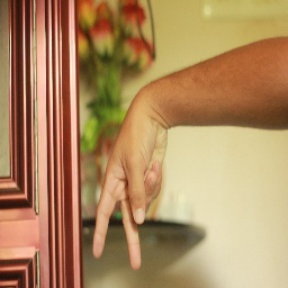Y: (85, 113, 183, 273)
